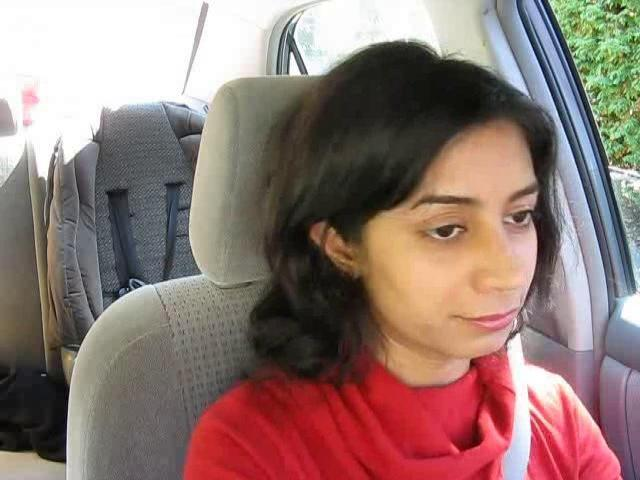eye_open: (415, 216, 472, 250), (504, 206, 535, 232)
face: (362, 165, 544, 360), (0, 8, 30, 334)
